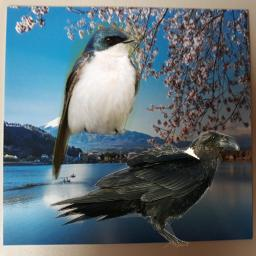Crow: (48, 129, 242, 249)
Swallow: (52, 21, 143, 180)
